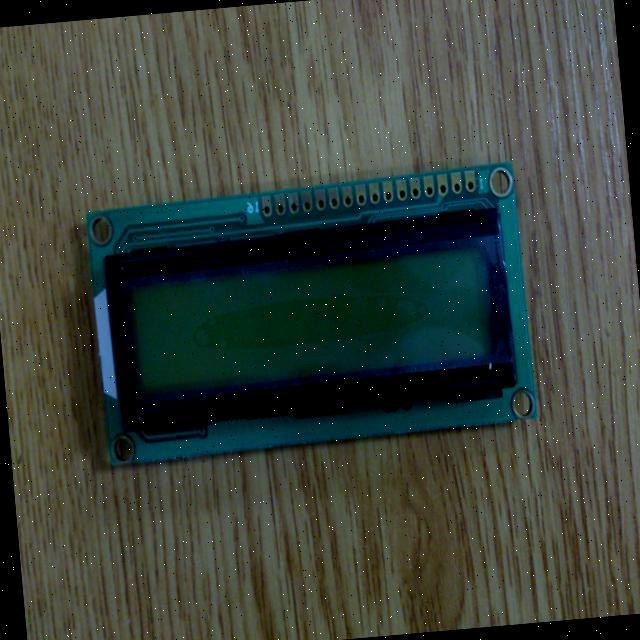lcd: (84, 160, 541, 467)
